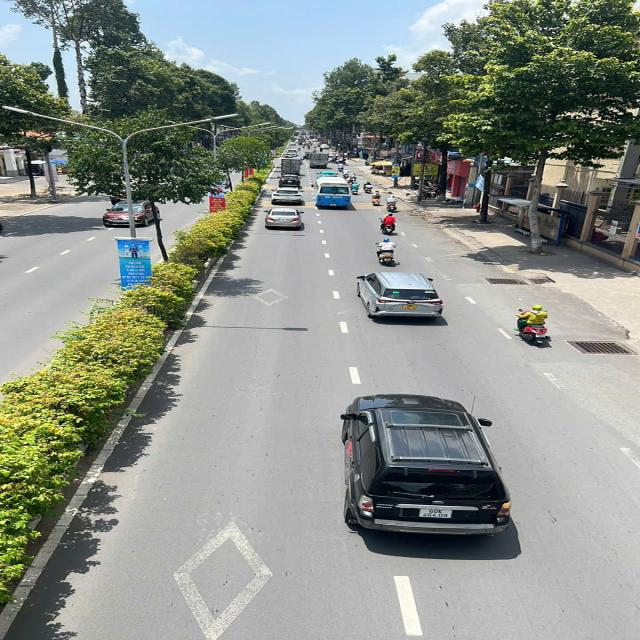Truck: (278, 160, 301, 177), (311, 153, 329, 169)
car: (350, 398, 516, 545), (355, 273, 440, 316), (106, 201, 162, 227), (268, 207, 300, 230), (275, 188, 304, 202), (280, 176, 302, 187), (316, 172, 341, 180), (286, 152, 298, 157), (285, 148, 299, 152), (322, 144, 329, 148)
motobyte: (525, 311, 548, 347), (378, 242, 394, 265), (383, 214, 394, 234), (386, 197, 399, 213), (372, 193, 382, 206), (352, 183, 359, 197), (366, 182, 372, 192), (337, 158, 347, 163), (348, 178, 354, 185), (351, 174, 357, 181), (344, 171, 349, 178), (338, 165, 343, 171)
